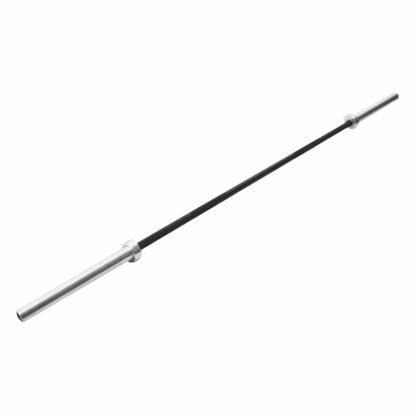Barbell: (12, 306, 35, 335)
